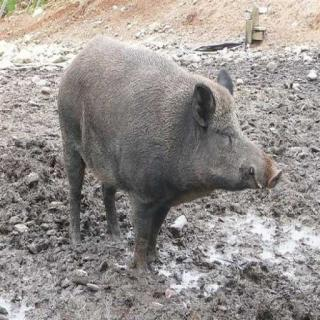Pig: (33, 11, 300, 276)
